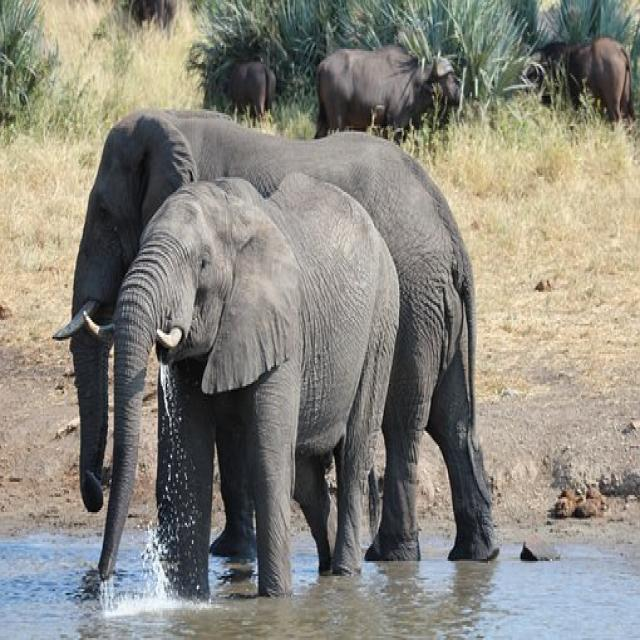Elephant: (51, 69, 510, 629), (84, 167, 397, 594)
